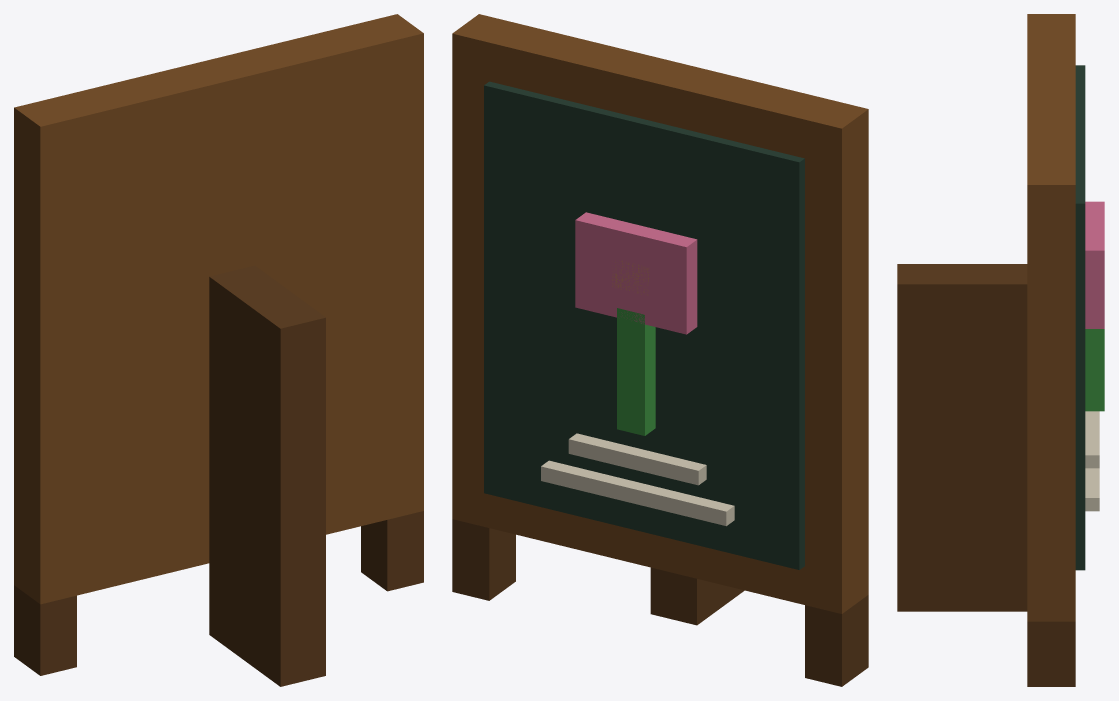
File: cp-chalkboard-flower.glb
3 views of the same model, side by side, from view 1: azimuth 30°, elevation 25°; view 2: azimuth 150°, elevation 25°; view 3: azimuth 270°, elevation 25° (orthographic). The views are drawn at different scales.
Parts seen in each view (by area): view 1: box-prop; view 2: box-prop; view 3: box-prop.
Part boxes in pixels (x1,y1,x2,y2): box-prop: (14, 14, 423, 686); box-prop: (452, 14, 868, 686); box-prop: (897, 14, 1104, 686).
Size of the model in its own units: 0.84 by 1.15 by 0.43.
